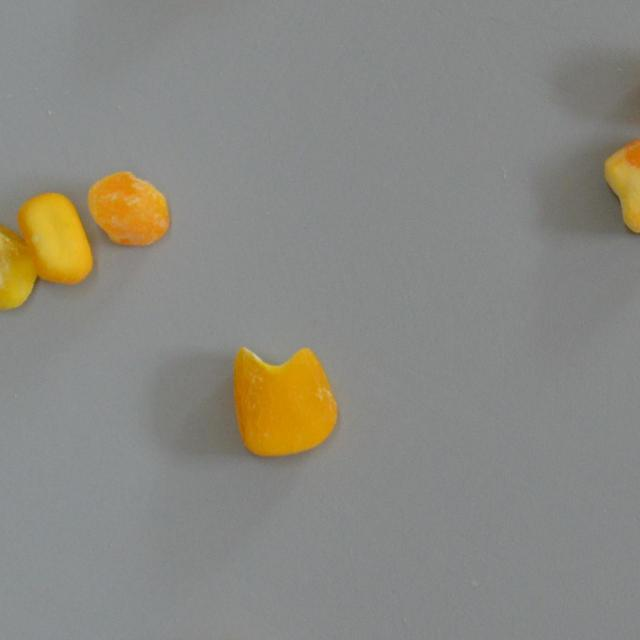estandar: (17, 192, 92, 284)
no_canjicado: (231, 344, 337, 456), (0, 210, 36, 310)
pelicula: (86, 170, 168, 246), (604, 130, 640, 235)
